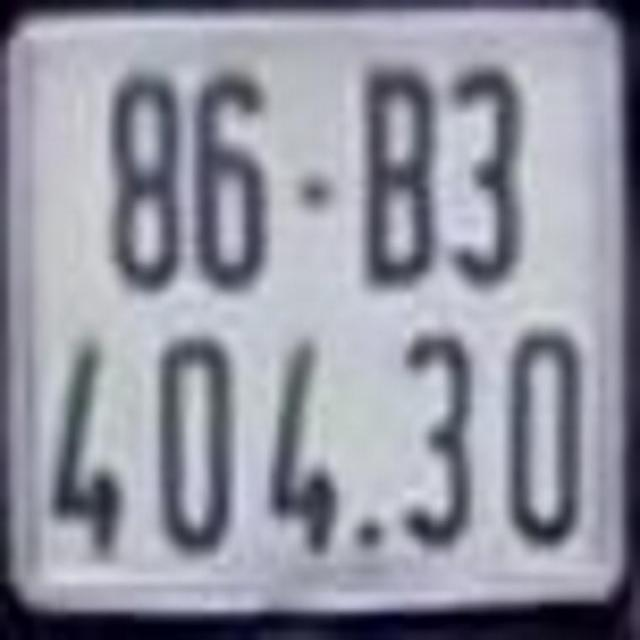0: (156, 331, 232, 551), (514, 327, 580, 546)
3: (401, 327, 476, 547), (453, 63, 522, 290)
4: (49, 344, 126, 553), (274, 342, 337, 544)
6: (197, 65, 269, 290)
8: (109, 63, 180, 283)
B: (364, 69, 438, 282)
